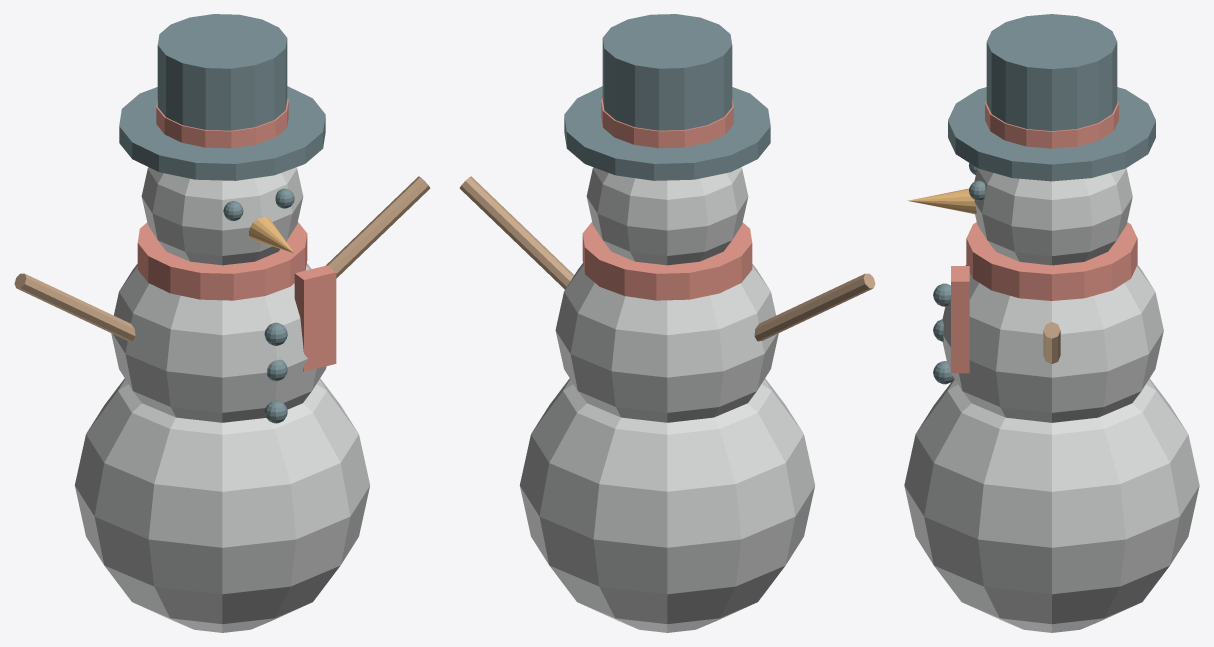
Rendered from remaster_decor_snowman.glb.
3 views of the same model, side by side, from view 1: azimuth 30°, elevation 25°; view 2: azimuth 150°, elevation 25°; view 3: azimuth 270°, elevation 25° (orthographic).
Visible parts, largest first — view 1: Snowball.003, Snowball.004, Top hat.001, Snowball.005, Hat brim.001, Red scarf.001, Scarf tail.001, Hat ribbon.001, Twig arm.002, Twig arm.003, Carrot nose.001; view 2: Snowball.003, Snowball.004, Top hat.001, Snowball.005, Hat brim.001, Red scarf.001, Twig arm.003, Hat ribbon.001, Twig arm.002; view 3: Snowball.003, Snowball.004, Top hat.001, Snowball.005, Hat brim.001, Red scarf.001, Hat ribbon.001, Scarf tail.001, Carrot nose.001, Twig arm.003.
Boxes of the visible parts, x1=… form: Snowball.003: x1=74, y1=378, x2=370, y2=632; Snowball.004: x1=111, y1=263, x2=326, y2=422; Top hat.001: x1=157, y1=14, x2=287, y2=130; Snowball.005: x1=141, y1=167, x2=303, y2=265; Hat brim.001: x1=119, y1=86, x2=325, y2=180; Red scarf.001: x1=137, y1=222, x2=307, y2=300; Scarf tail.001: x1=294, y1=265, x2=336, y2=371; Hat ribbon.001: x1=156, y1=98, x2=288, y2=148; Twig arm.002: x1=14, y1=273, x2=135, y2=341; Twig arm.003: x1=326, y1=176, x2=430, y2=278; Carrot nose.001: x1=248, y1=217, x2=294, y2=253; Snowball.003: x1=519, y1=378, x2=815, y2=632; Snowball.004: x1=555, y1=263, x2=778, y2=422; Top hat.001: x1=602, y1=14, x2=732, y2=130; Snowball.005: x1=586, y1=167, x2=748, y2=265; Hat brim.001: x1=564, y1=86, x2=770, y2=180; Red scarf.001: x1=582, y1=222, x2=752, y2=300; Twig arm.003: x1=459, y1=176, x2=574, y2=289; Hat ribbon.001: x1=601, y1=98, x2=733, y2=148; Twig arm.002: x1=754, y1=273, x2=875, y2=341; Snowball.003: x1=904, y1=378, x2=1199, y2=632; Snowball.004: x1=942, y1=265, x2=1163, y2=422; Top hat.001: x1=986, y1=14, x2=1117, y2=130; Snowball.005: x1=974, y1=168, x2=1132, y2=265; Hat brim.001: x1=948, y1=87, x2=1155, y2=181; Red scarf.001: x1=966, y1=222, x2=1137, y2=300; Hat ribbon.001: x1=985, y1=101, x2=1118, y2=148; Scarf tail.001: x1=951, y1=266, x2=969, y2=373; Carrot nose.001: x1=907, y1=188, x2=976, y2=214; Twig arm.003: x1=1043, y1=322, x2=1060, y2=363.
Bounding box in the file's own units: 3.06 × 4.1 × 1.9.
